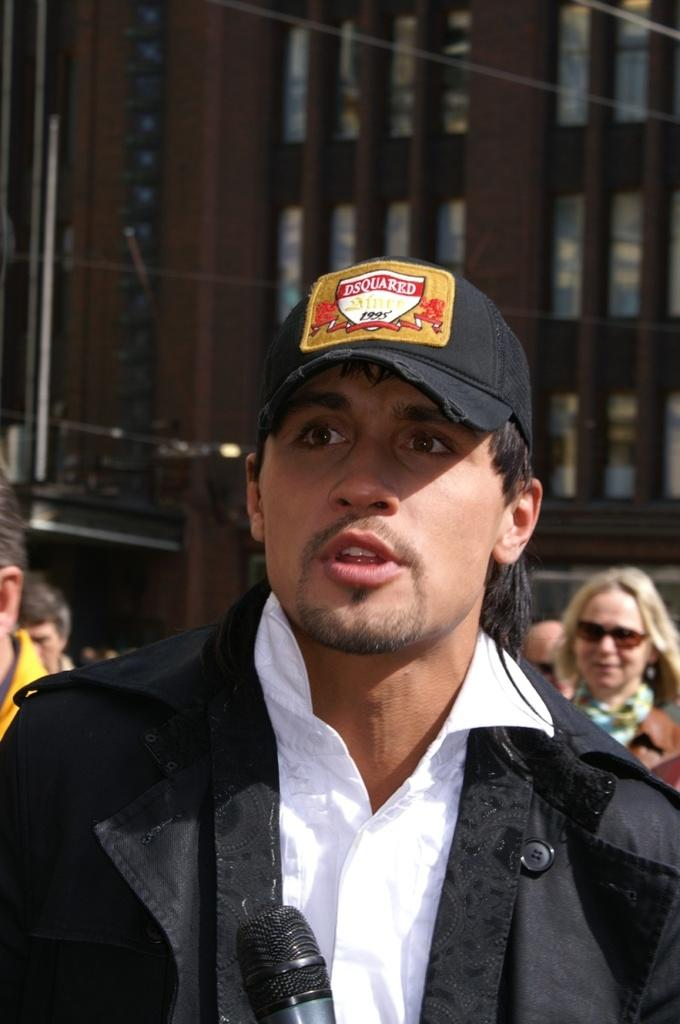Hat: (254, 249, 533, 461)
